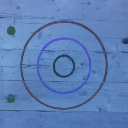Axe Tip: (126, 39, 128, 42)
